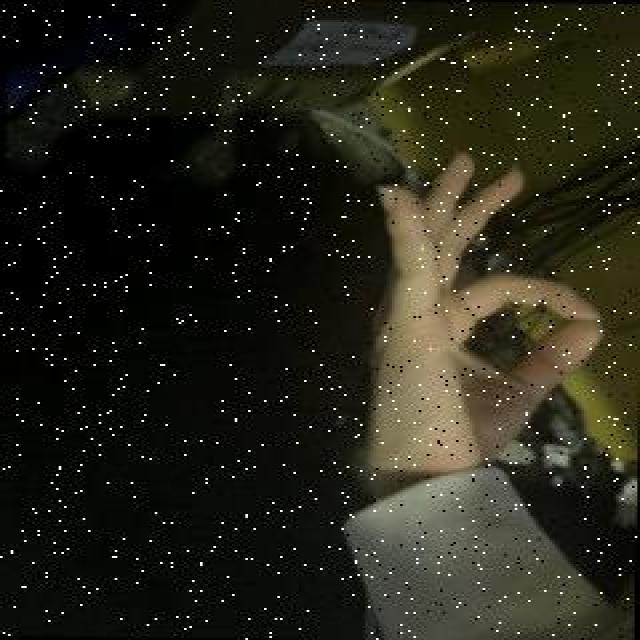F: (353, 143, 618, 479)
